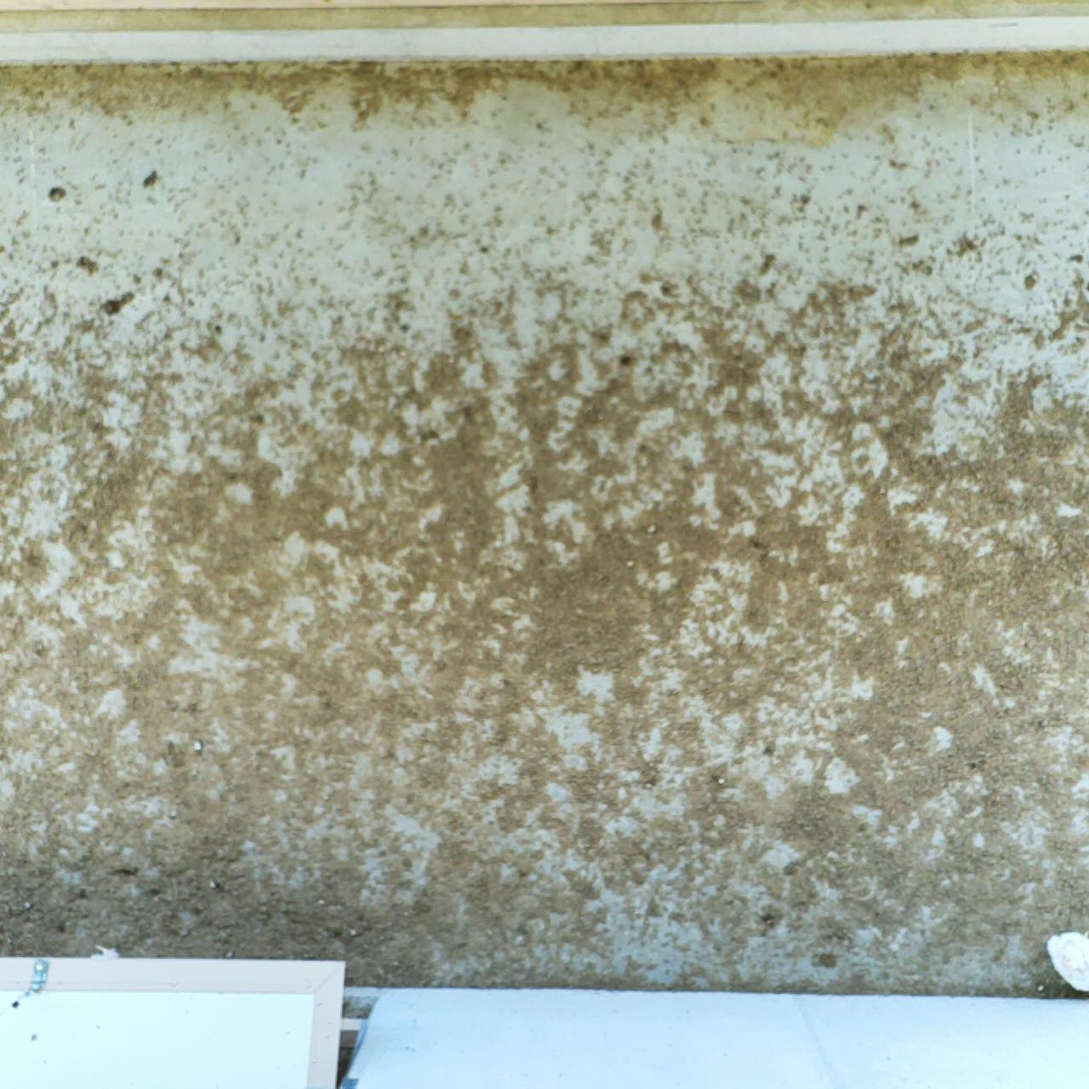chicken: (1040, 924, 1089, 996)
